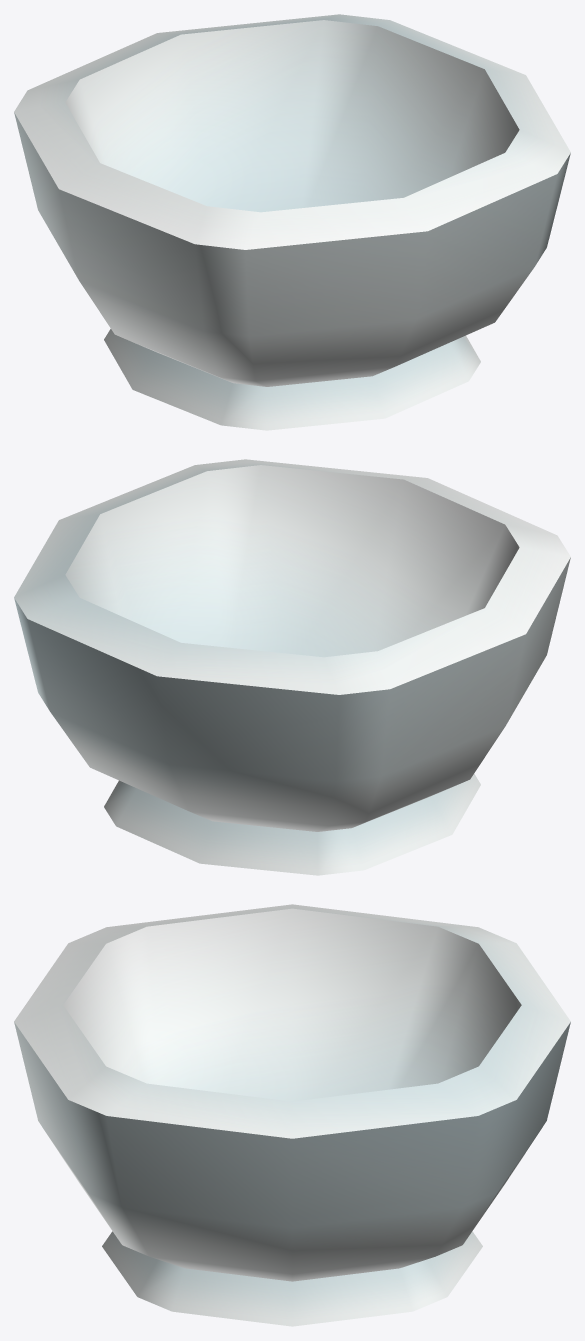
File: bowl_soup.fbx
The picture shows the model from 3 angles, top to bottom: view 1: azimuth 30°, elevation 25°; view 2: azimuth 150°, elevation 25°; view 3: azimuth 270°, elevation 25°; orthographic projection. The views are drawn at different scales.
Parts seen in each view (by area): view 1: bowl_soup; view 2: bowl_soup; view 3: bowl_soup.
Boxes of the visible parts, bbox=[...] form: bowl_soup: bbox=[14, 14, 570, 430]; bowl_soup: bbox=[14, 459, 570, 875]; bowl_soup: bbox=[14, 904, 570, 1326].
Bounding box in the file's own units: 59.58 × 28.59 × 59.83.
